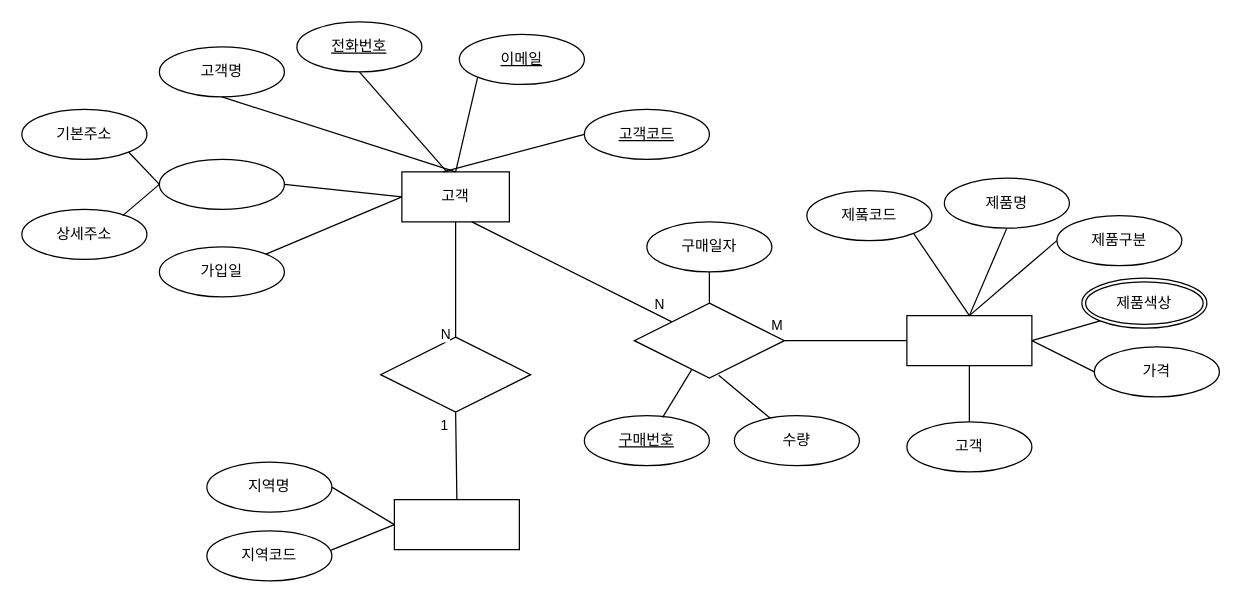
Some shapes in this 1241 by 604 pixel diagram are drawn without their labels. The shapes that lost their labels are listed below. From the top down, each one's box as (x1, y1, x2, y2) in pixels, then its label:
(158, 158, 284, 209): 주소
(633, 302, 784, 378): 구매
(906, 314, 1032, 366): 제품
(379, 336, 531, 412): 관리
(393, 498, 519, 550): 지역
